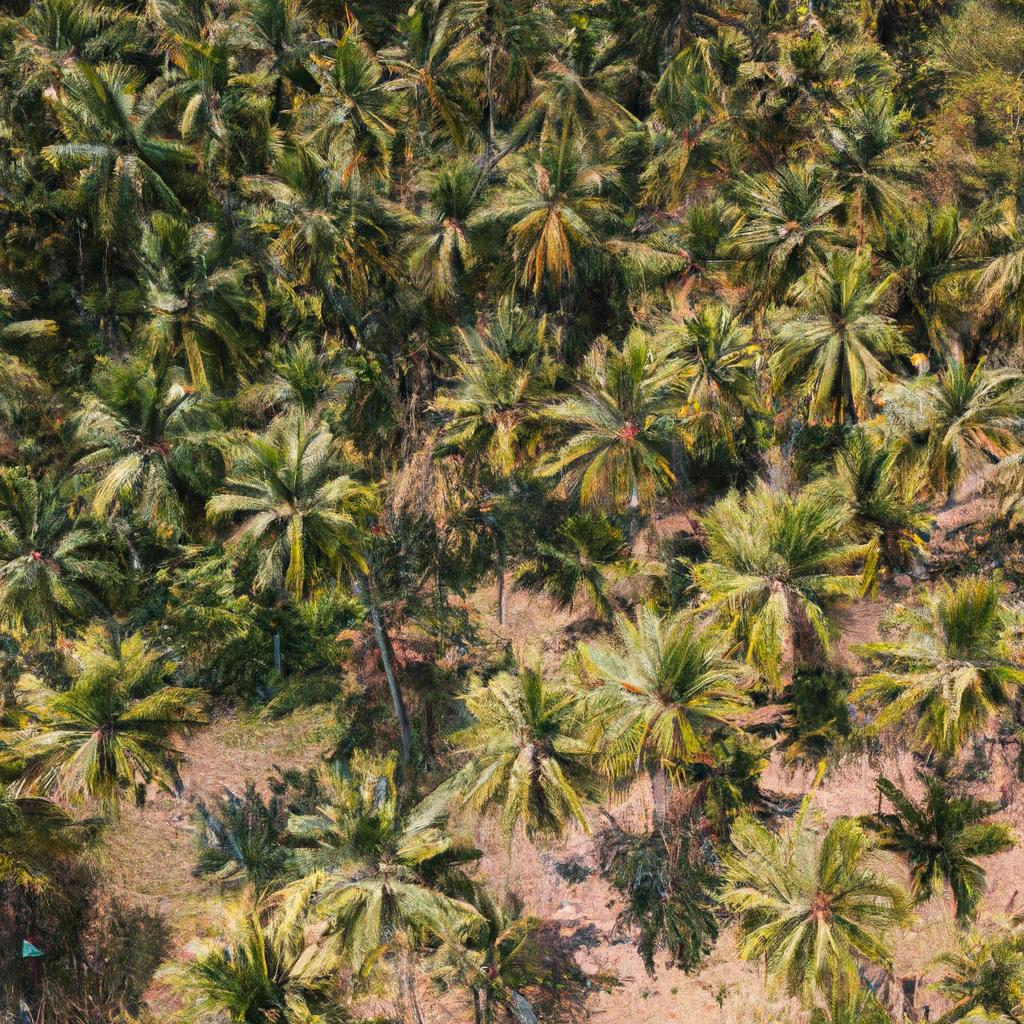coconut_tree: (244, 758, 495, 981), (699, 802, 937, 1005), (4, 626, 219, 812), (691, 480, 894, 658), (427, 659, 605, 839), (564, 599, 745, 767), (215, 412, 394, 581), (556, 334, 708, 516), (759, 245, 923, 410)
